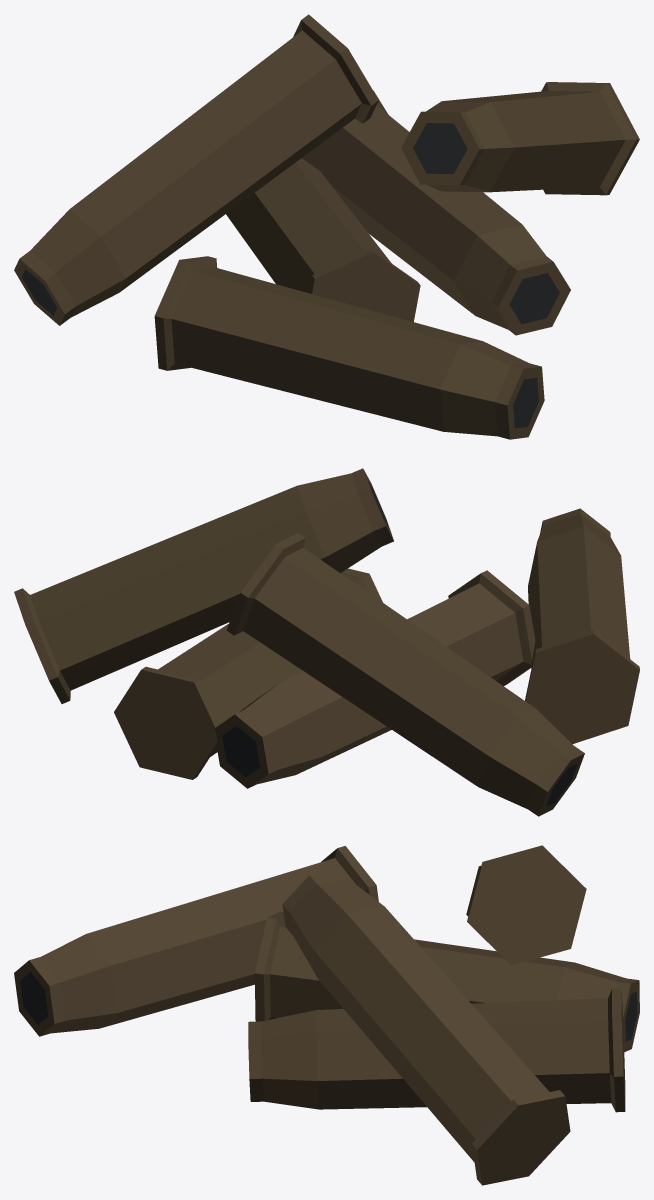
File: SM_Prop_Shell_Pile_01.fbx
3 renders of one model, top to bottom at view 1: azimuth 30°, elevation 25°; view 2: azimuth 150°, elevation 25°; view 3: azimuth 270°, elevation 25°, orthographic. The views are drawn at different scales.
Visible parts, largest first — view 1: SM_Prop_Shell_Pile_01; view 2: SM_Prop_Shell_Pile_01; view 3: SM_Prop_Shell_Pile_01.
Boxes of the visible parts, <box> form: SM_Prop_Shell_Pile_01: <box>14,14,639,439</box>; SM_Prop_Shell_Pile_01: <box>14,468,639,816</box>; SM_Prop_Shell_Pile_01: <box>14,845,639,1185</box>.
Size of the model in its own units: 137 by 50.71 by 130.
